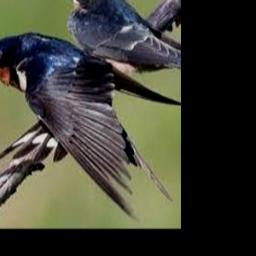Swallow: (0, 32, 181, 220), (67, 0, 181, 67)
